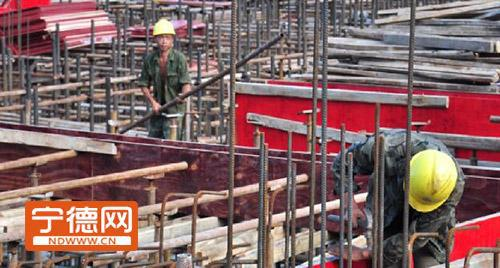helmet: (403, 146, 462, 218), (152, 17, 177, 54)
